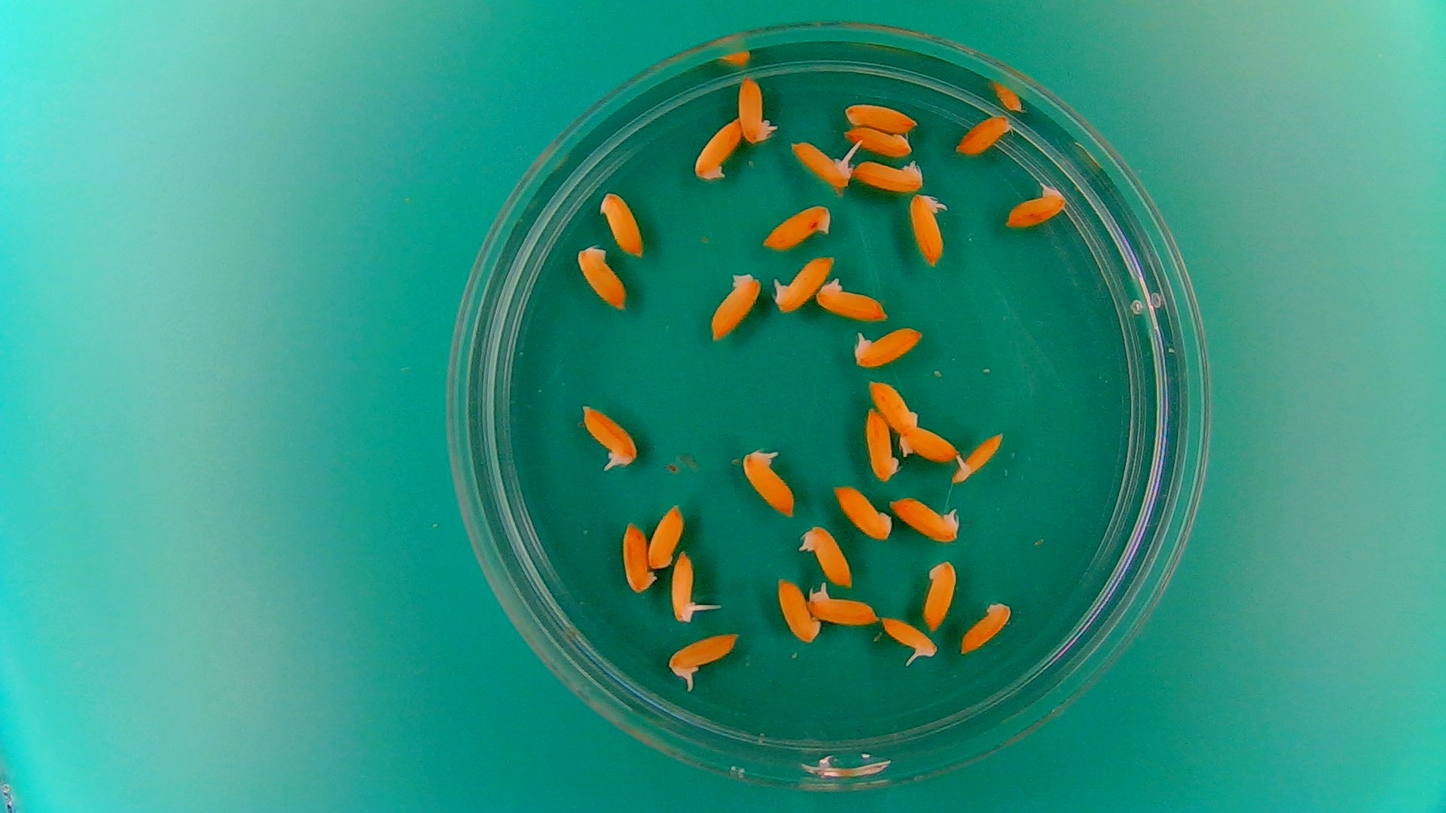no: (706, 267, 763, 343), (575, 242, 630, 314), (831, 482, 894, 541), (690, 114, 745, 181), (759, 201, 834, 250), (813, 276, 891, 323), (597, 188, 647, 260), (775, 575, 825, 645), (863, 376, 923, 434), (958, 596, 1014, 656), (920, 555, 959, 634), (861, 406, 901, 483), (953, 111, 1017, 158), (620, 517, 657, 596), (894, 422, 962, 464), (853, 156, 927, 194), (842, 99, 920, 133), (646, 501, 684, 570), (842, 125, 917, 157)
yes: (578, 400, 641, 477), (740, 448, 798, 520), (797, 519, 856, 589), (773, 251, 835, 312), (670, 627, 737, 682), (786, 138, 856, 190), (905, 190, 951, 269), (850, 323, 928, 369), (889, 496, 961, 543), (1002, 180, 1069, 230), (951, 427, 1008, 485), (736, 69, 778, 145), (877, 615, 940, 660), (804, 589, 878, 626), (670, 550, 700, 626)
